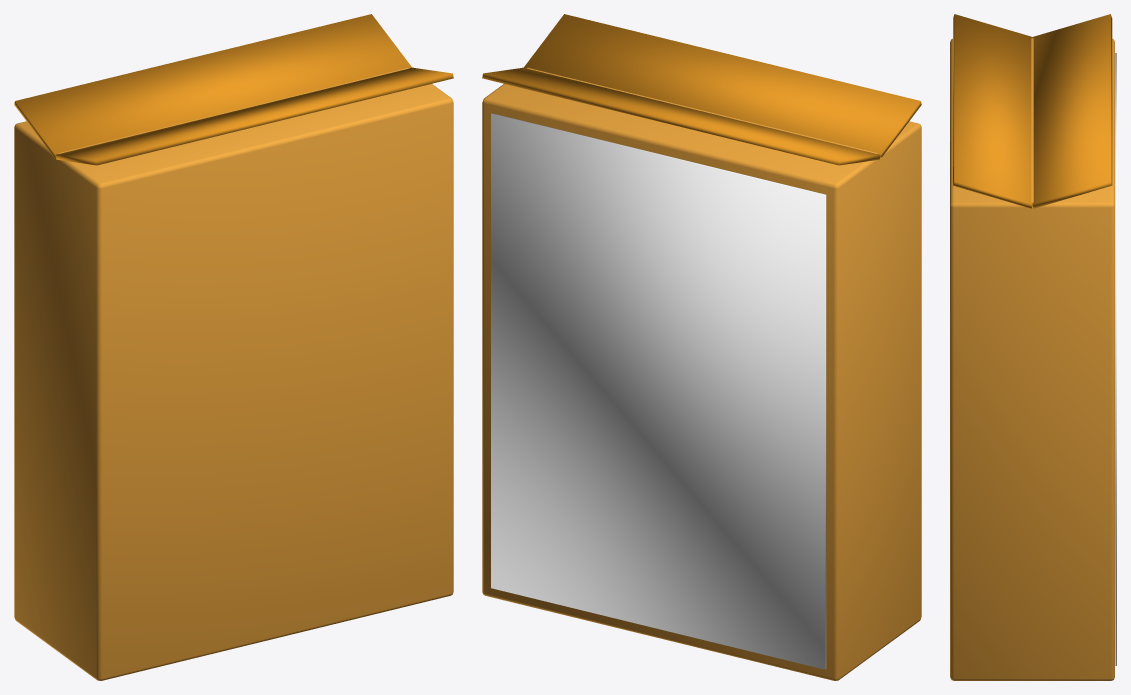
The model's file is props-cerealbox.glb.
3 views of the same model, side by side, from view 1: azimuth 30°, elevation 25°; view 2: azimuth 150°, elevation 25°; view 3: azimuth 270°, elevation 25° (orthographic). The views are drawn at different scales.
Visible parts, largest first — view 1: CerealBox__Box, CerealBox__Flaps; view 2: CerealBox__Front, CerealBox__Box, CerealBox__Flaps; view 3: CerealBox__Box, CerealBox__Flaps, CerealBox__Front.
Boxes of the visible parts, <box> form: CerealBox__Box: <box>14,68,453,680</box>; CerealBox__Flaps: <box>14,14,453,165</box>; CerealBox__Front: <box>491,113,826,669</box>; CerealBox__Box: <box>482,68,921,680</box>; CerealBox__Flaps: <box>482,14,921,165</box>; CerealBox__Box: <box>950,38,1114,680</box>; CerealBox__Flaps: <box>953,14,1112,208</box>; CerealBox__Front: <box>1115,53,1116,665</box>.
Bounding box in the file's own units: 24 × 33.51 × 10.11.
